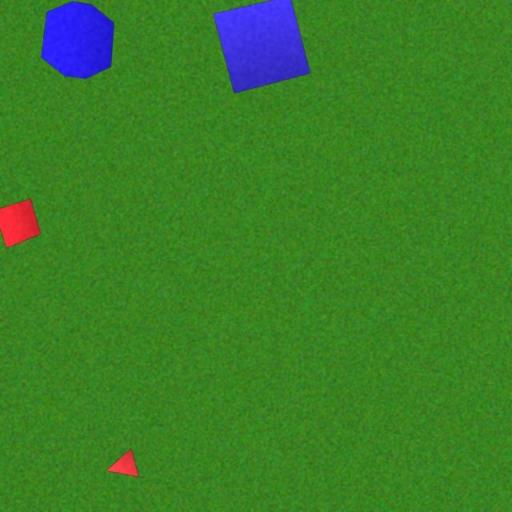BLUE_SQUARE: (212, 0, 311, 94)
RED_SQUARE: (0, 198, 42, 248)
